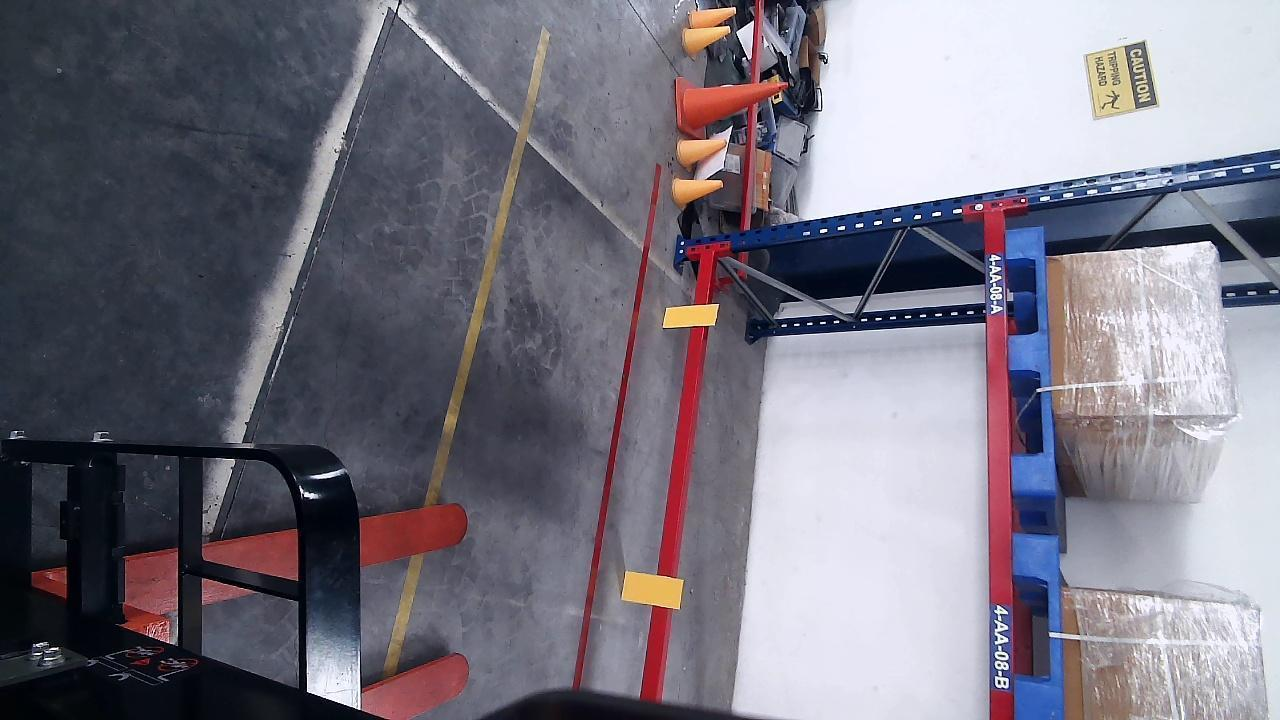red_line: (570, 158, 662, 686)
yellow_line: (423, 26, 550, 508)
